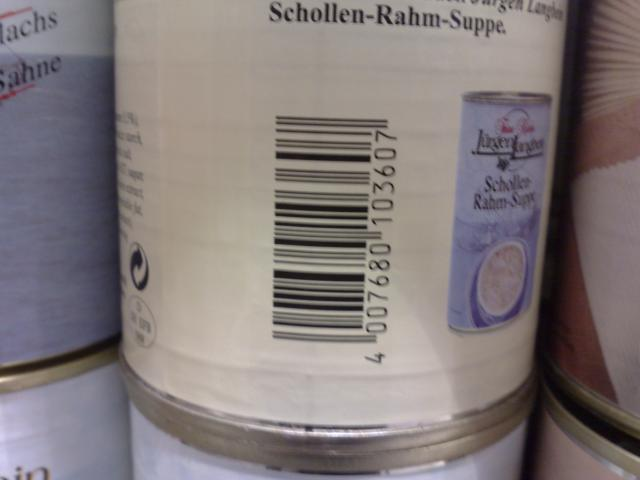Barkod: (266, 112, 372, 338)
